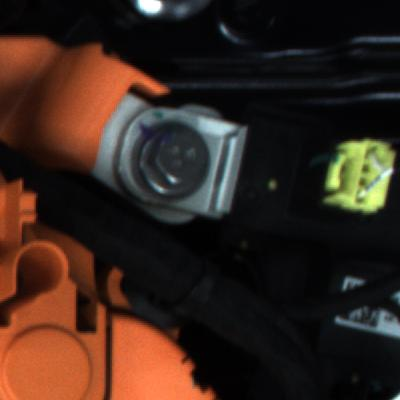nut_b: (126, 119, 215, 205)
